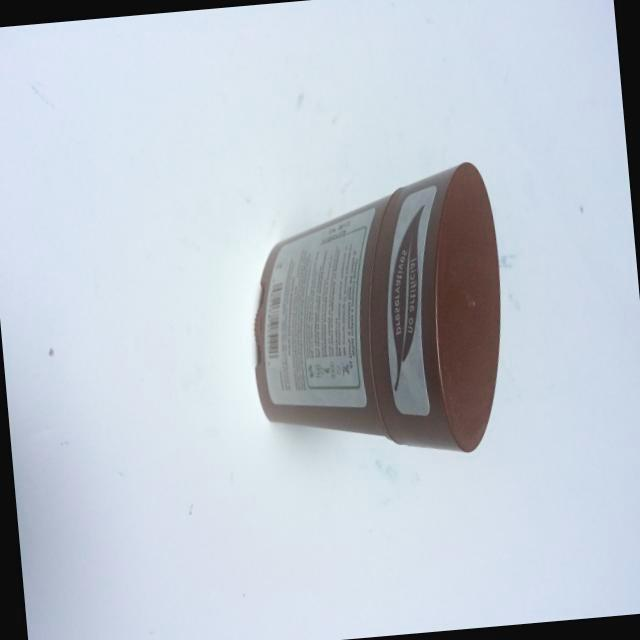plastic: (192, 93, 540, 524)
